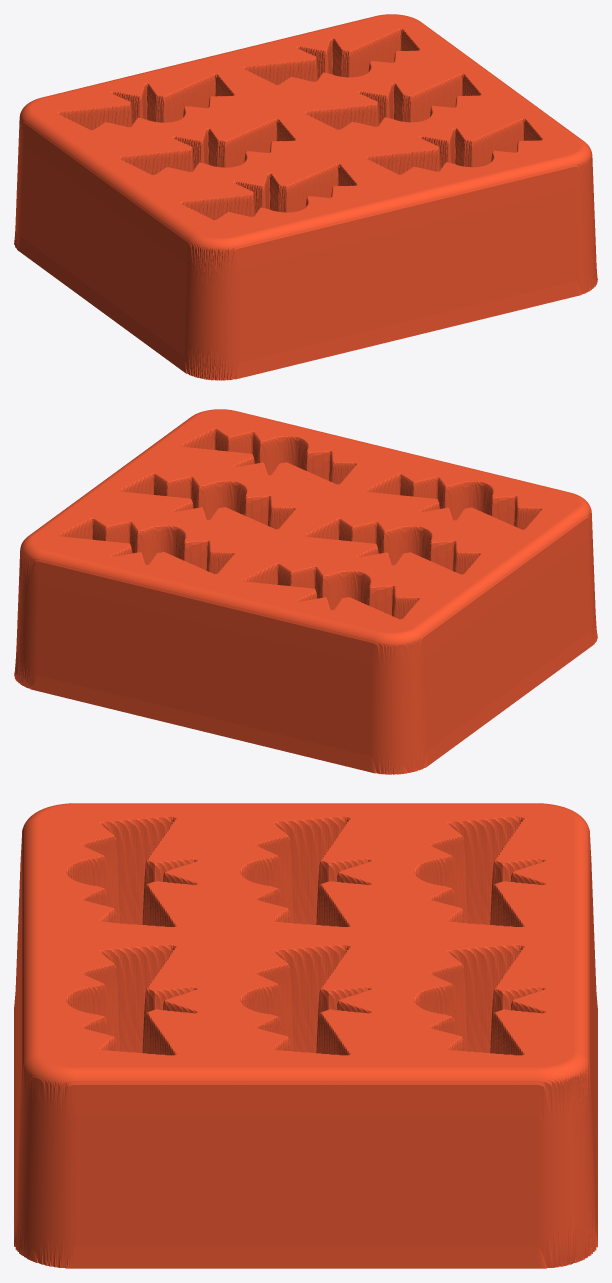
File: mold.glb
The picture shows the model from 3 angles, top to bottom: view 1: azimuth 30°, elevation 25°; view 2: azimuth 150°, elevation 25°; view 3: azimuth 270°, elevation 25°; orthographic projection. The views are drawn at different scales.
Parts seen in each view (by area): view 1: geometry_0; view 2: geometry_0; view 3: geometry_0.
Boxes of the visible parts, x1,y1,x2,y2 form: geometry_0: (14, 14, 597, 380); geometry_0: (14, 409, 597, 774); geometry_0: (14, 803, 597, 1268).
Bounding box in the file's own units: 0.0996 × 0.0314 × 0.0869.
